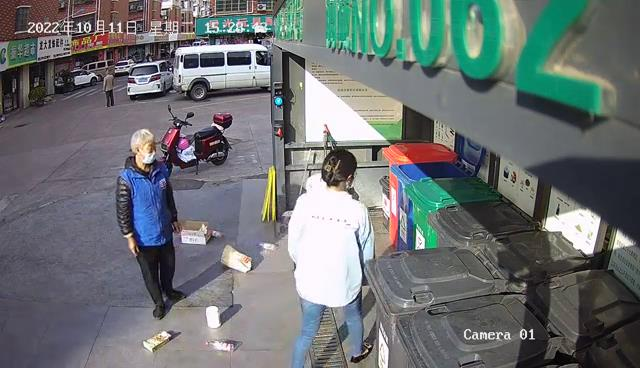lvzhipin: (204, 304, 223, 330)
person: (284, 145, 379, 368)
suliaozhipin: (200, 338, 237, 353), (254, 239, 279, 253), (208, 226, 225, 240)
worker: (112, 126, 190, 324)
zhizhipin: (220, 243, 253, 276), (178, 217, 212, 247), (141, 328, 174, 354)
